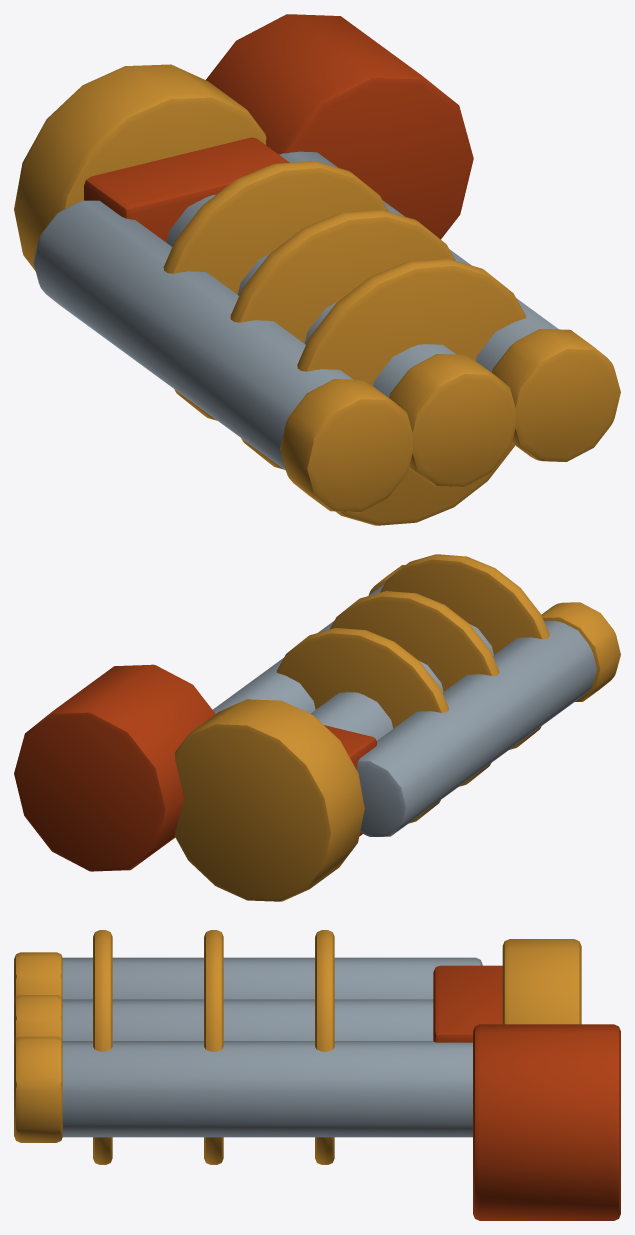
The model's file is CannonA2.obj.
The picture shows the model from 3 angles, top to bottom: view 1: azimuth 30°, elevation 25°; view 2: azimuth 150°, elevation 25°; view 3: azimuth 270°, elevation 25°; orthographic projection. The views are drawn at different scales.
Parts seen in each view (by area): view 1: CannonA2; view 2: CannonA2; view 3: CannonA2.
Part boxes in pixels (x1=…): CannonA2: x1=14, y1=14, x2=620, y2=525; CannonA2: x1=14, y1=554, x2=620, y2=901; CannonA2: x1=14, y1=930, x2=620, y2=1220.
Bounding box in the file's own units: 0.8692 × 0.48 × 1.23.
